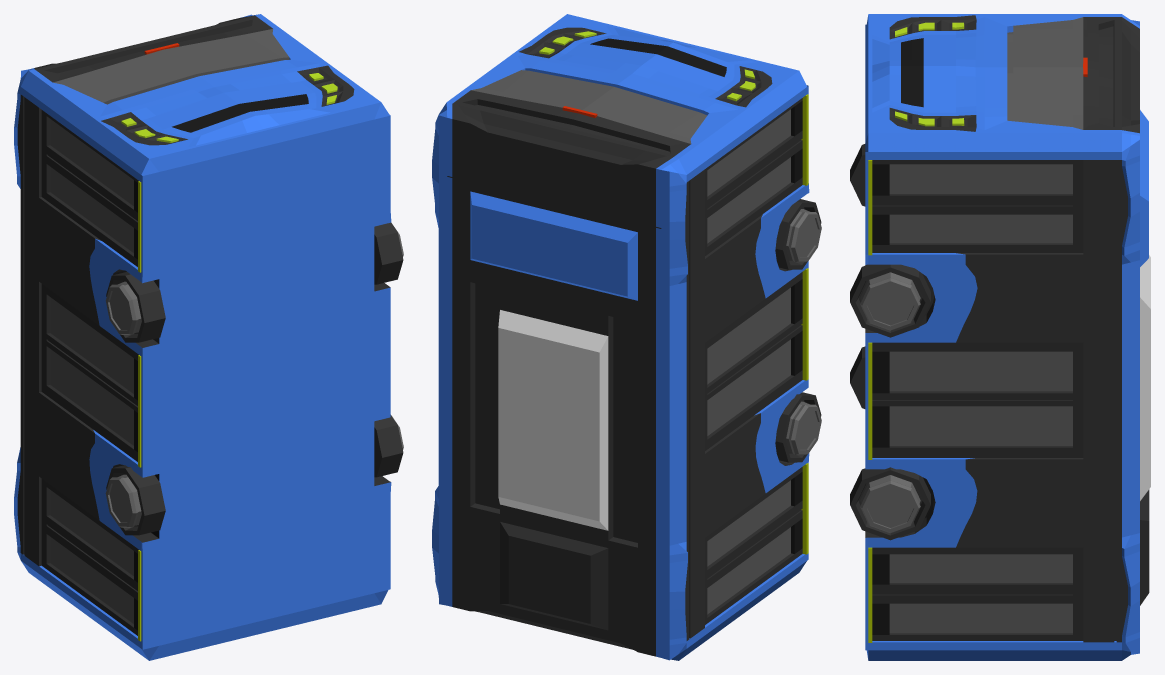
File: Bus_done.fbx
3 renders of one model, left to right at view 1: azimuth 30°, elevation 25°; view 2: azimuth 150°, elevation 25°; view 3: azimuth 270°, elevation 25°, orthographic. The views are drawn at different scales.
Visible parts, largest first — view 1: Cube; view 2: Cube; view 3: Cube.
Boxes of the visible parts, <box> form: Cube: <box>14,14,403,660</box>; Cube: <box>432,14,821,660</box>; Cube: <box>850,14,1150,660</box>.
Bounding box in the file's own units: 10935 × 19906 × 9988.
